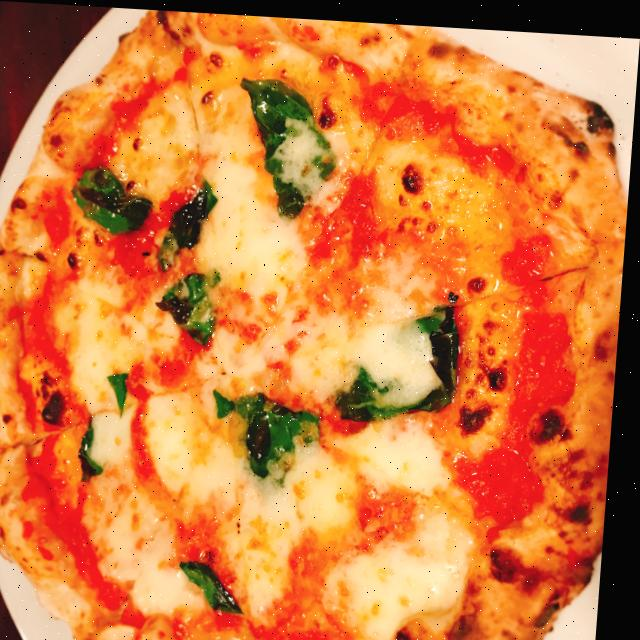basil: (236, 71, 345, 218), (342, 292, 467, 420), (215, 384, 328, 477), (158, 173, 223, 272), (72, 161, 160, 233), (160, 262, 228, 345), (186, 553, 257, 612), (86, 415, 116, 478), (113, 367, 138, 410)
pizza: (0, 0, 640, 640)
